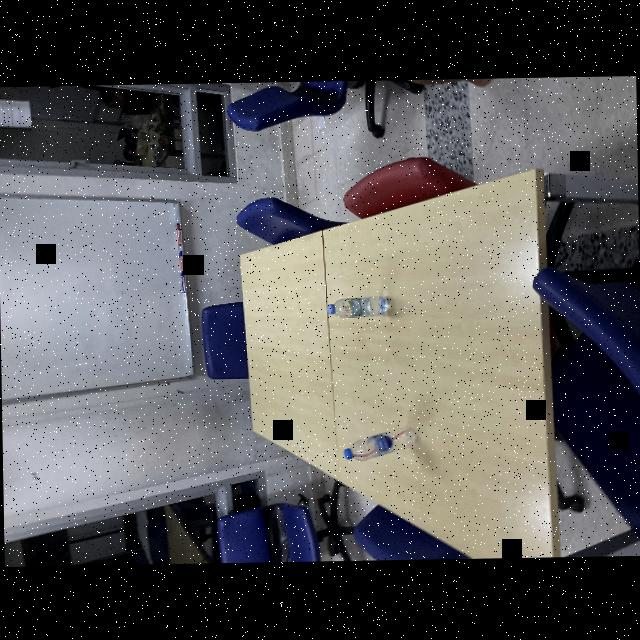plastic_bottle: (342, 427, 420, 459), (324, 294, 394, 317)
plastic_bottle_cap: (326, 302, 336, 314), (343, 448, 352, 458)
straw: (350, 428, 410, 456)
